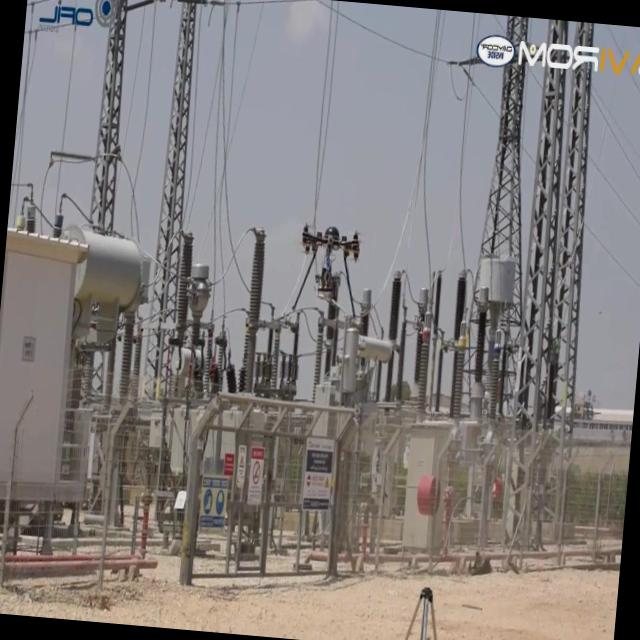drone: (296, 218, 364, 296)
